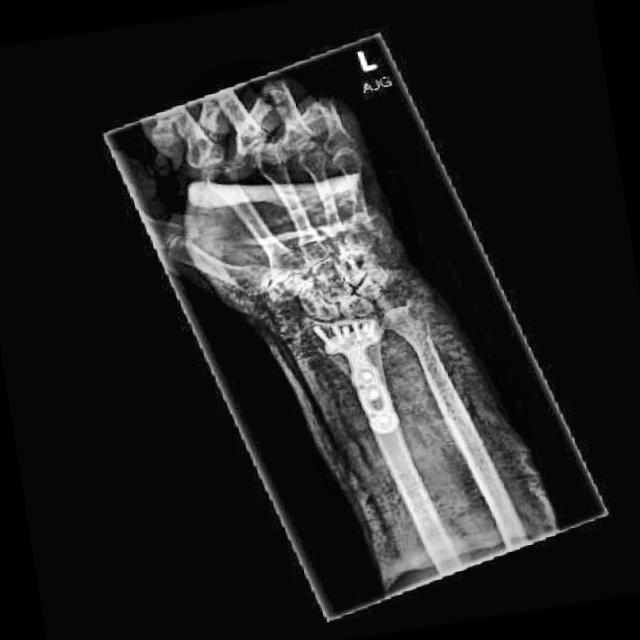fingers positive: (293, 319, 361, 368)
